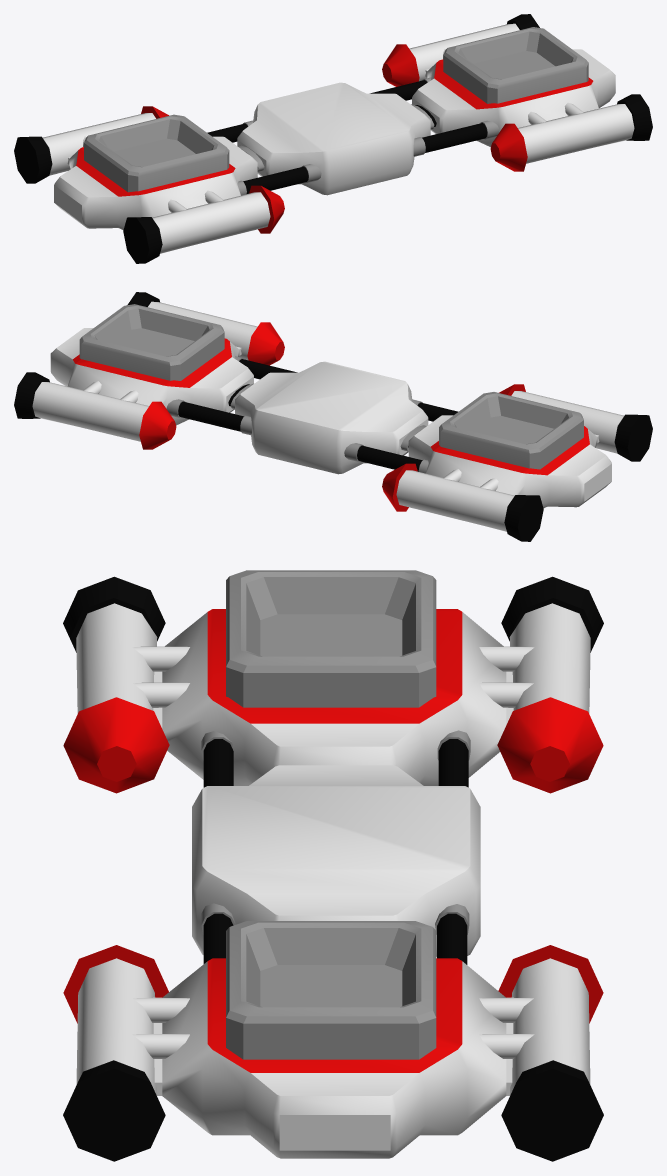
Rendered from Player 1 ship painted.FBX.
3 views of the same model, one above another, from view 1: azimuth 30°, elevation 25°; view 2: azimuth 150°, elevation 25°; view 3: azimuth 270°, elevation 25° (orthographic). The views are drawn at different scales.
Parts seen in each view (by area): view 1: Box002; view 2: Box002; view 3: Box002.
Boxes of the visible parts, box(x1,y1,x2,y2) form: Box002: box(14, 14, 652, 263); Box002: box(14, 292, 652, 541); Box002: box(63, 570, 603, 1161).
Size of the model in its own units: 304 by 35.39 by 133.
